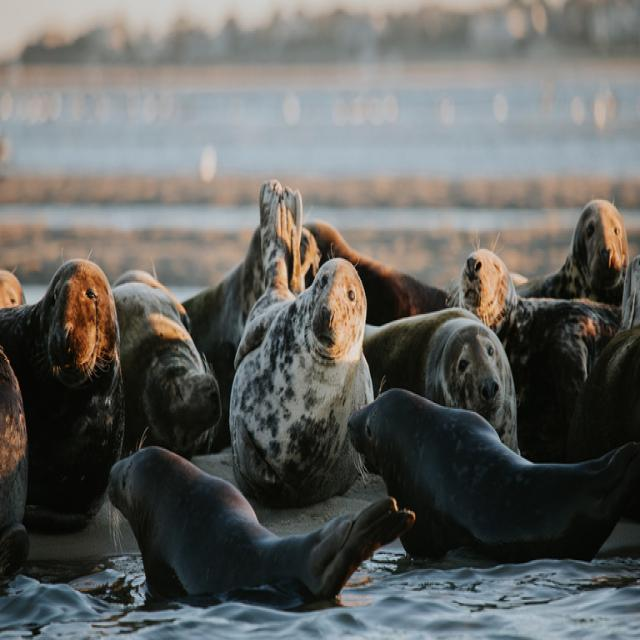WaterDog: (235, 173, 372, 492), (7, 260, 126, 519), (451, 236, 617, 393), (379, 314, 528, 468), (554, 195, 629, 304)
